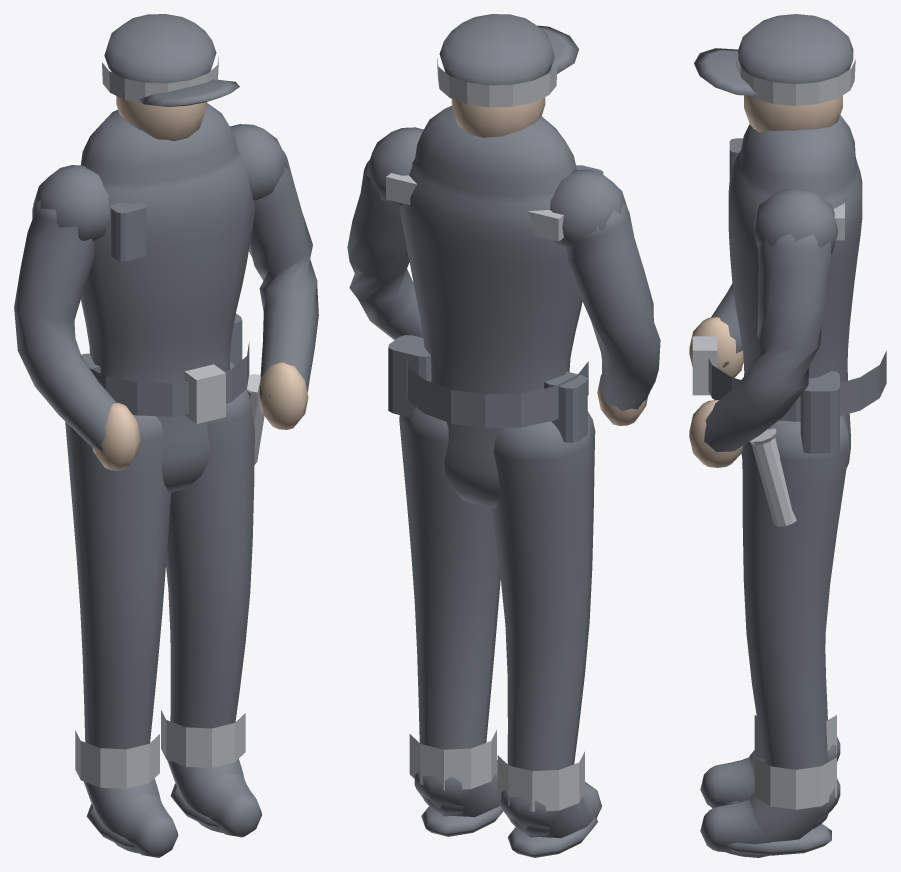
The model's file is ufo-crash-site-and-recovery-facility-uniformed-guard-efa4f355__17372.glb.
3 views of the same model, side by side, from view 1: azimuth 30°, elevation 25°; view 2: azimuth 150°, elevation 25°; view 3: azimuth 270°, elevation 25° (orthographic). The views are drawn at different scales.
Visible parts, largest first — view 1: uniformed-guard; view 2: uniformed-guard; view 3: uniformed-guard.
Boxes of the visible parts, x1=… form: uniformed-guard: x1=14, y1=14, x2=318, y2=857; uniformed-guard: x1=347, y1=14, x2=660, y2=857; uniformed-guard: x1=689, y1=14, x2=886, y2=857.
Size of the model in its own units: 0.7018 by 1.83 by 0.4021.
